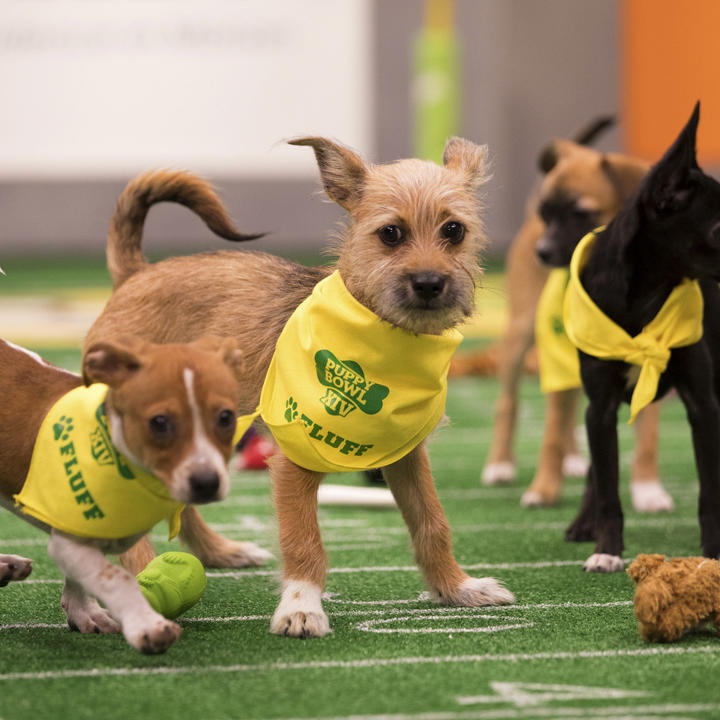dog: (73, 131, 512, 637), (481, 129, 694, 509), (1, 335, 249, 651), (574, 98, 720, 572)
